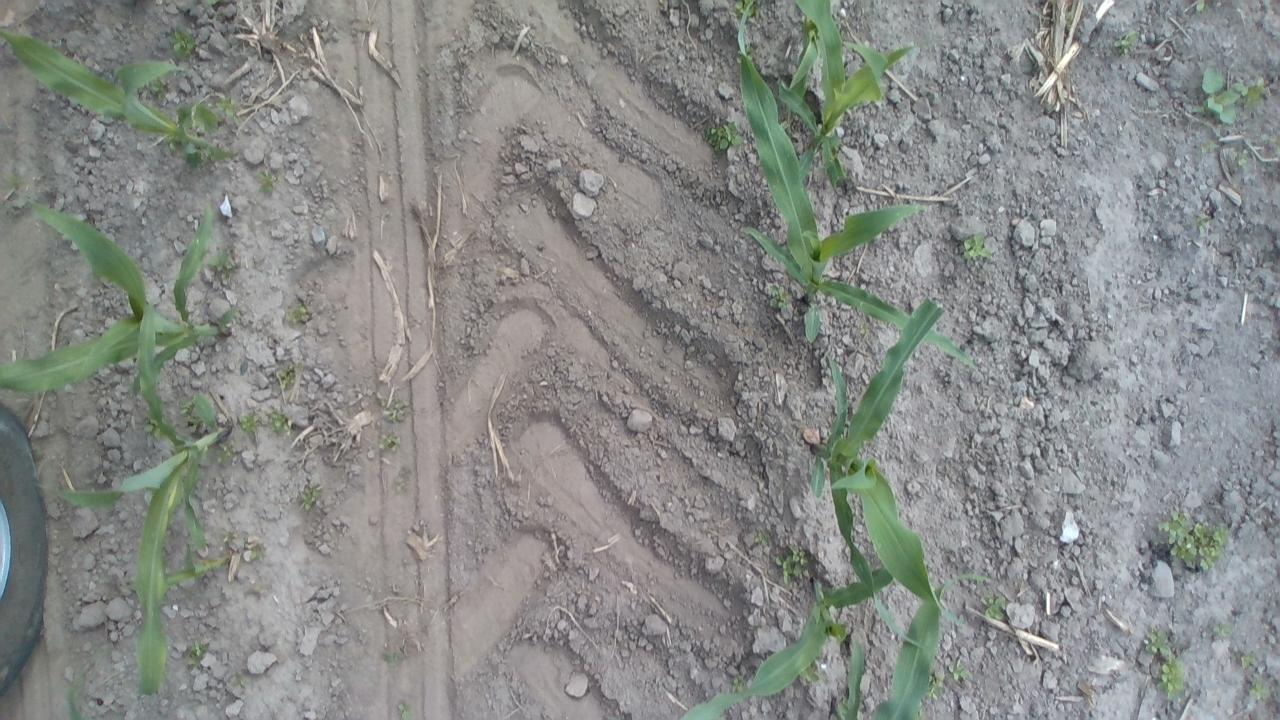Maize: (734, 0, 984, 375), (43, 307, 243, 708), (0, 193, 244, 453), (804, 297, 965, 642), (673, 556, 909, 720), (2, 20, 245, 168), (776, 0, 922, 198), (862, 571, 988, 720), (137, 545, 250, 605)
Weeds: (1187, 65, 1272, 124), (1154, 510, 1230, 574), (1144, 618, 1190, 702), (771, 542, 810, 589), (706, 114, 745, 156), (959, 231, 996, 266), (976, 588, 1010, 623), (166, 30, 202, 61), (919, 669, 948, 707), (766, 284, 799, 314), (212, 95, 244, 124), (177, 396, 199, 437), (206, 247, 236, 277), (275, 362, 307, 389), (1244, 672, 1268, 706), (140, 413, 166, 444), (184, 638, 210, 668), (385, 398, 413, 425), (1109, 28, 1138, 54), (301, 480, 323, 514), (255, 166, 278, 197), (286, 295, 312, 322), (730, 0, 764, 20), (268, 410, 295, 435), (800, 658, 822, 688), (376, 430, 402, 454), (236, 412, 264, 434), (1190, 212, 1216, 235), (1213, 618, 1236, 643), (948, 659, 973, 681), (1230, 648, 1257, 668), (1228, 148, 1250, 172), (380, 646, 406, 666), (728, 674, 752, 695), (749, 528, 769, 552), (1196, 139, 1218, 157), (395, 701, 418, 718), (218, 447, 236, 464), (1190, 0, 1211, 12)
